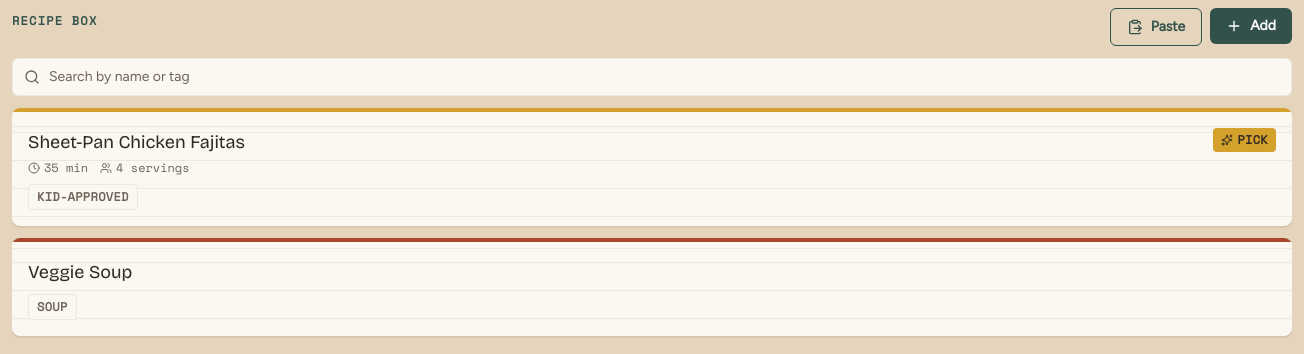
it: RecipesPage › lists recipes, shows the pick badge, and supports searching
The width and height of the screenshot is (1304, 354).
Expected: the heading "Sheet-Pan Chicken Fajitas" is shown, [28,128,245,156]
Expected: the heading "Veggie Soup" is shown, [28,258,132,286]
Type "soup" into the search field named "search recipes".
click(652, 77); type("soup")  # box [12,58,1292,96]
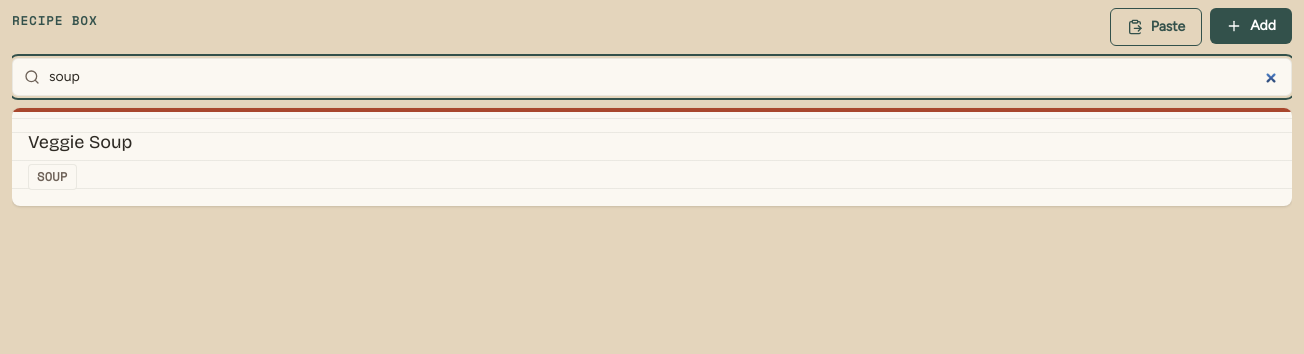
Expected: the heading "Veggie Soup" is shown, [28,128,132,156]
Expected: the link "Sheet-Pan Chicken Fajitas" is gone
